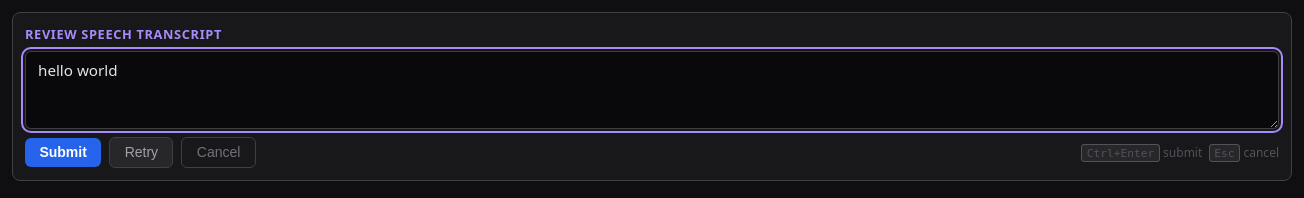
VoiceInput — audio upload flow › shows review panel when disabled, then populates text input after confirmation
The width and height of the screenshot is (1304, 198).
# Confirming while disabled should NOT call onSubmit — it populates the text box
Click the button with aria-label "submit transcript": (63, 152) [25,138,101,167]
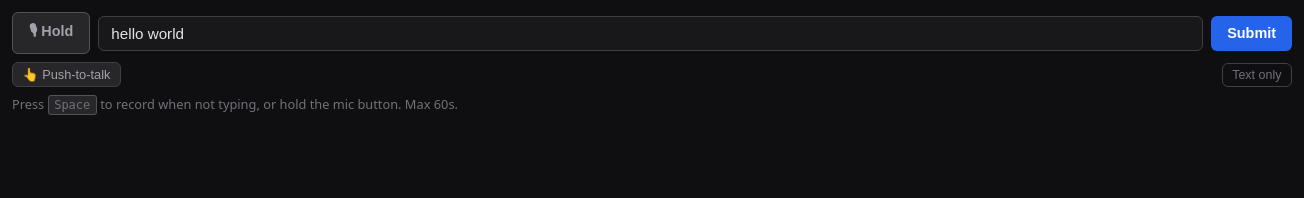
Result: the element with test id "transcript-review-panel" is gone
Result: the field named "your response" holds "hello world" at [98,16,1203,50]
